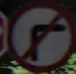Don't turn right: (8, 10, 68, 64)
